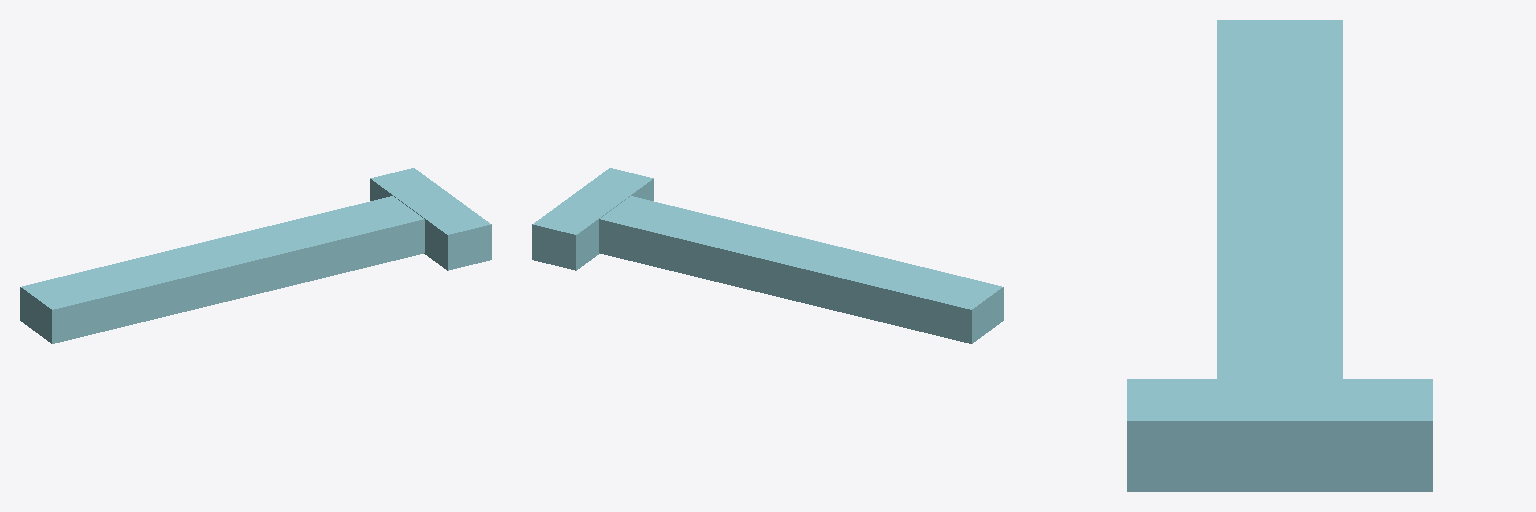
The robot description file, URDF, robot "cuboid_hammer_v002":
<?xml version="1.0"?>
<robot name="cuboid_hammer_v002">

  <link name="cuboid_hammer_v002">
    <!-- Handle -->
    <visual>
      <origin xyz="0 0 0" rpy="0 0 0"/>
      <geometry>
        <box size="0.2465797680120997 0.036455232265416596 0.021651212982409965"/>
      </geometry>
      <material name="material">
        <color rgba="0.639 0.847 0.882 1.0"/>
      </material>
    </visual>
    <collision>
      <origin xyz="0 0 0" rpy="0 0 0"/>
      <geometry>
        <box size="0.2465797680120997 0.036455232265416596 0.021651212982409965"/>
      </geometry>
    </collision>

    <!-- Head -->
    <visual>
      <origin xyz="0.1378346584417454 0 0" rpy="0 0 0"/>
      <geometry>
        <box size="0.029089548871391074 0.08882093509110844 0.022552690244167013"/>
      </geometry>
      <material name="material">
        <color rgba="0.639 0.847 0.882 1.0"/>
      </material>
    </visual>
    <collision>
      <origin xyz="0.1378346584417454 0 0" rpy="0 0 0"/>
      <geometry>
        <box size="0.029089548871391074 0.08882093509110844 0.022552690244167013"/>
      </geometry>
    </collision>

    <inertial>
      <density value="400.0"/>
    </inertial>
  </link>

</robot>

--- Render facts (derived) ---
Views: 3 orthographic renders of the robot side by side, from view 1: azimuth 30°, elevation 25°; view 2: azimuth 150°, elevation 25°; view 3: azimuth 270°, elevation 25°.
Robot: cuboid_hammer_v002 — 1 links, 0 joints (none); root link cuboid_hammer_v002; default pose: every joint at zero.
Visible links, largest first — view 1: cuboid_hammer_v002; view 2: cuboid_hammer_v002; view 3: cuboid_hammer_v002.
Boxes of the visible links, x1=… form: cuboid_hammer_v002: x1=20, y1=168, x2=491, y2=343; cuboid_hammer_v002: x1=532, y1=168, x2=1003, y2=343; cuboid_hammer_v002: x1=1127, y1=20, x2=1432, y2=491.
Size in the robot's own frame: 0.2757 by 0.0888 by 0.0226 metres.
Geometry: primitives only (box / cylinder / sphere), no mesh files.
